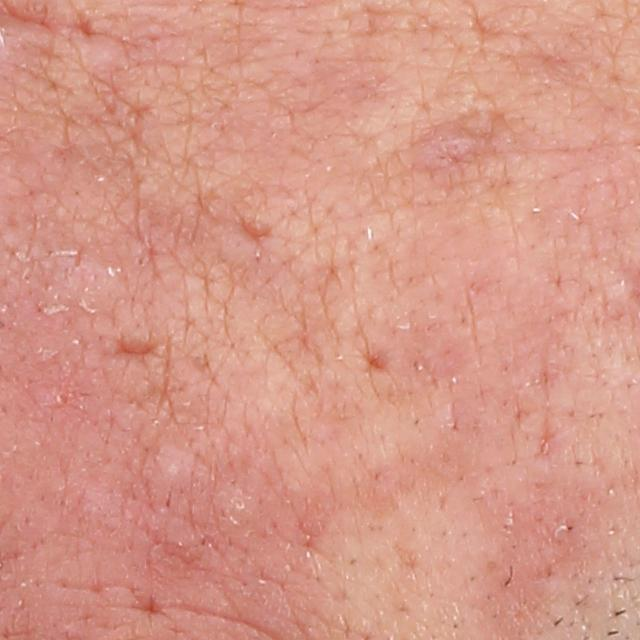atrophic_scar: (112, 333, 162, 364), (240, 215, 277, 243)
